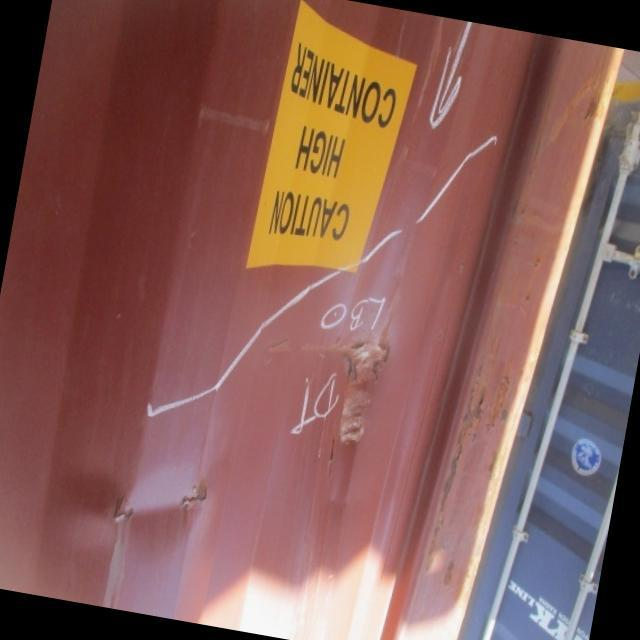dent: (27, 119, 503, 632)
